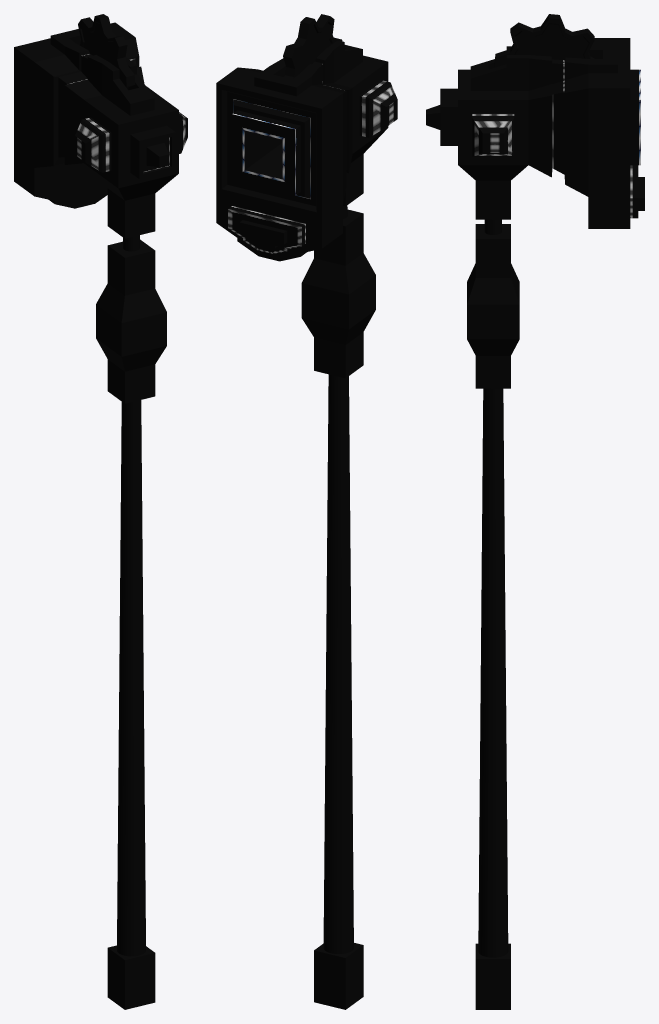
The model's file is Dispenser_2_0.fbx.
The picture shows the model from 3 angles, left to right: view 1: azimuth 30°, elevation 25°; view 2: azimuth 150°, elevation 25°; view 3: azimuth 270°, elevation 25°; orthographic projection. The views are drawn at different scales.
Visible parts, largest first — view 1: Dispenser, Dispenser_Prop_0, Dispenser_Prop_1, Gear; view 2: Dispenser, Dispenser_Prop_0, Dispenser_Prop_1, Gear; view 3: Dispenser, Dispenser_Prop_0, Dispenser_Prop_1, Gear.
Part boxes in pixels (x1,y1,x2,y2): Dispenser: (14,22,187,208); Dispenser_Prop_0: (107,188,155,1009); Dispenser_Prop_1: (96,239,166,403); Gear: (78,14,135,89); Dispenser: (216,40,397,261); Dispenser_Prop_0: (314,154,363,1009); Dispenser_Prop_1: (301,209,375,378); Gear: (283,14,342,78); Dispenser: (426,38,644,228); Dispenser_Prop_0: (475,180,510,1009); Dispenser_Prop_1: (467,224,519,388); Gear: (494,14,594,67).
Size of the model in its own units: 1.01 by 9.08 by 1.83.
Materials: 1 (1 with a texture image).
